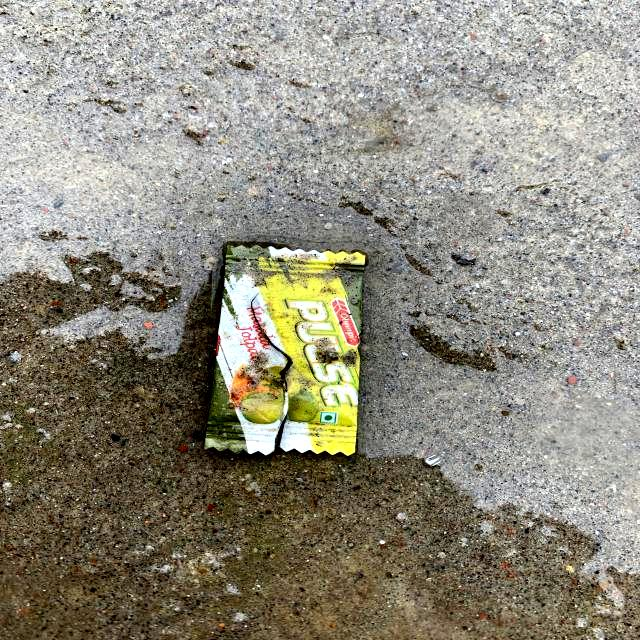packet: (212, 239, 365, 461)
